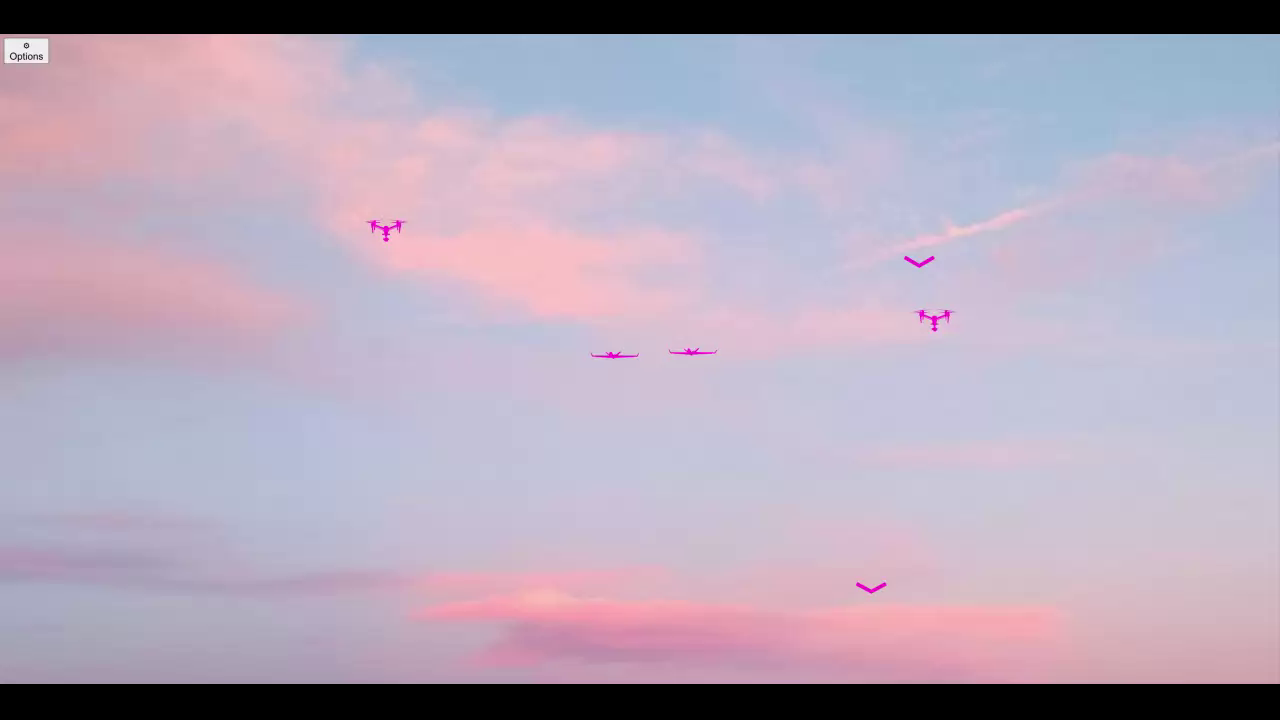Bird: (881, 243, 948, 280), (838, 569, 893, 603)
Drone: (666, 334, 738, 365), (574, 342, 647, 371)
Quadcopter: (351, 205, 418, 251), (905, 299, 964, 342)
